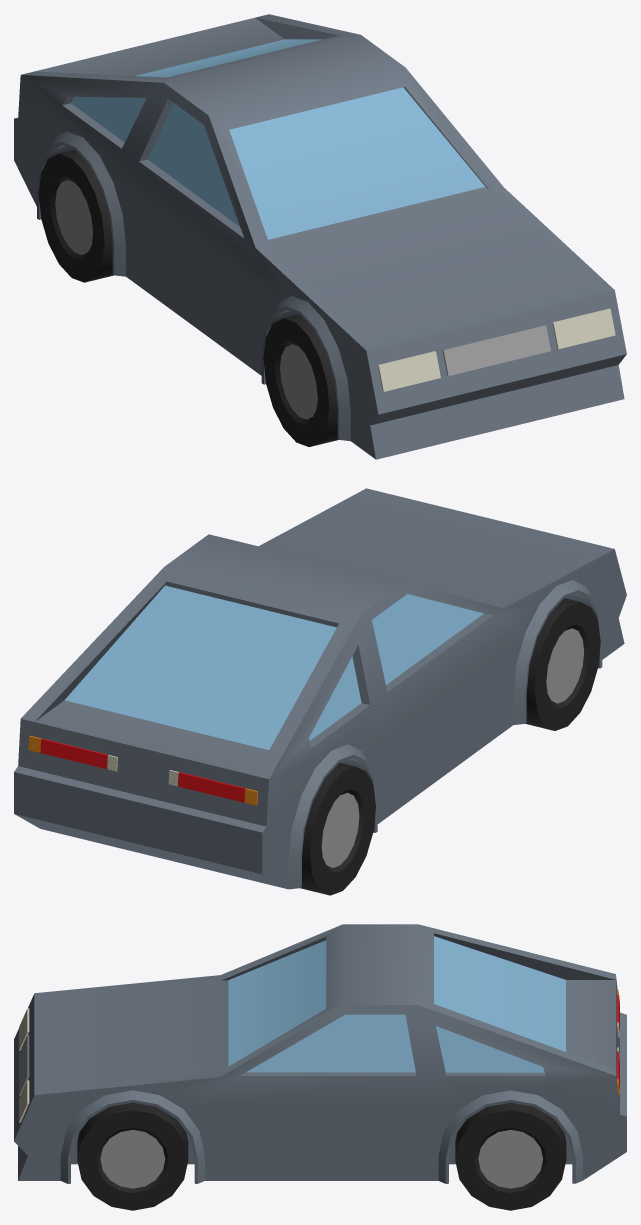
File: car1.glb
The picture shows the model from 3 angles, top to bottom: view 1: azimuth 30°, elevation 25°; view 2: azimuth 150°, elevation 25°; view 3: azimuth 270°, elevation 25°; orthographic projection. The views are drawn at different scales.
Visible parts, largest first — view 1: car-coupe-silver_Cube.629; view 2: car-coupe-silver_Cube.629; view 3: car-coupe-silver_Cube.629.
Boxes of the visible parts, <box> form: car-coupe-silver_Cube.629: <box>14,14,626,459</box>; car-coupe-silver_Cube.629: <box>14,488,626,895</box>; car-coupe-silver_Cube.629: <box>14,924,626,1210</box>.
Size of the model in its own units: 0.854 by 0.681 by 1.99.
